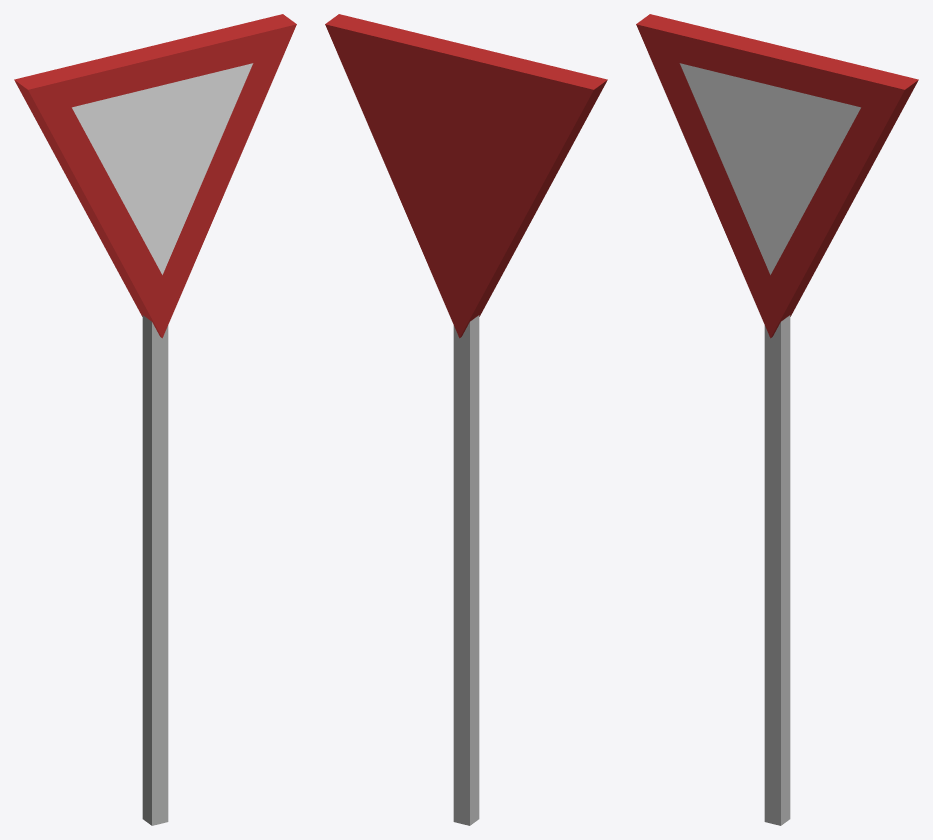
The model's file is Road_Sign_4.fbx.
3 renders of one model, left to right at view 1: azimuth 30°, elevation 25°; view 2: azimuth 150°, elevation 25°; view 3: azimuth 330°, elevation 25°, orthographic.
Visible parts, largest first — view 1: Road_Sign_4; view 2: Road_Sign_4; view 3: Road_Sign_4.
Part boxes in pixels (left/top/right/bottom): Road_Sign_4: left=14, top=14, right=296, bottom=825; Road_Sign_4: left=325, top=14, right=607, bottom=825; Road_Sign_4: left=636, top=14, right=918, bottom=825.
Size of the model in its own units: 1.16 by 3.17 by 0.1046.
1 material, 1 textured.
